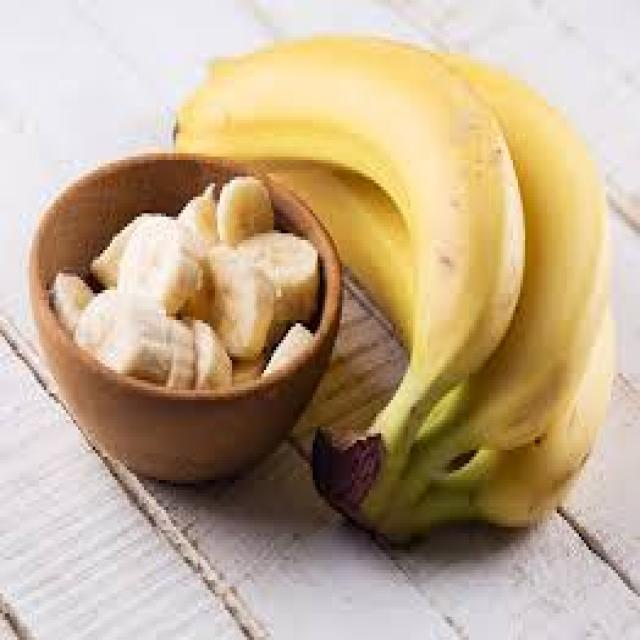banana: (171, 30, 616, 543), (74, 282, 172, 369), (232, 226, 318, 318), (120, 216, 197, 312), (206, 238, 269, 347)
